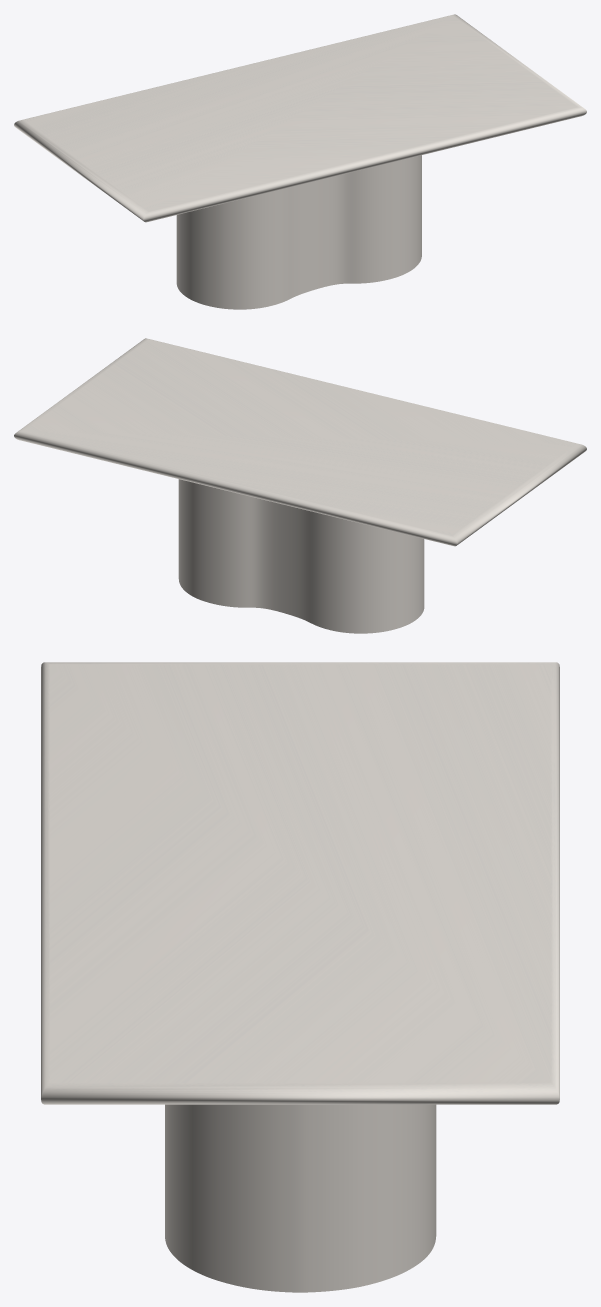
Rendered from pearlwhite_recta_round_riverwave.glb.
3 views of the same model, one above another, from view 1: azimuth 30°, elevation 25°; view 2: azimuth 150°, elevation 25°; view 3: azimuth 270°, elevation 25° (orthographic). The views are drawn at different scales.
Visible parts, largest first — view 1: round_recta, riverwave; view 2: round_recta, riverwave; view 3: round_recta, riverwave.
Boxes of the visible parts, left/top/right/bottom form: round_recta: left=14, top=14, right=586, bottom=222; riverwave: left=176, top=155, right=421, bottom=309; round_recta: left=14, top=338, right=586, bottom=546; riverwave: left=178, top=479, right=424, bottom=633; round_recta: left=41, top=662, right=559, bottom=1104; riverwave: left=165, top=1104, right=436, bottom=1292.
Size of the model in its own units: 7.5 by 2.5 by 3.8.
Materials: 1 (1 with a texture image).
